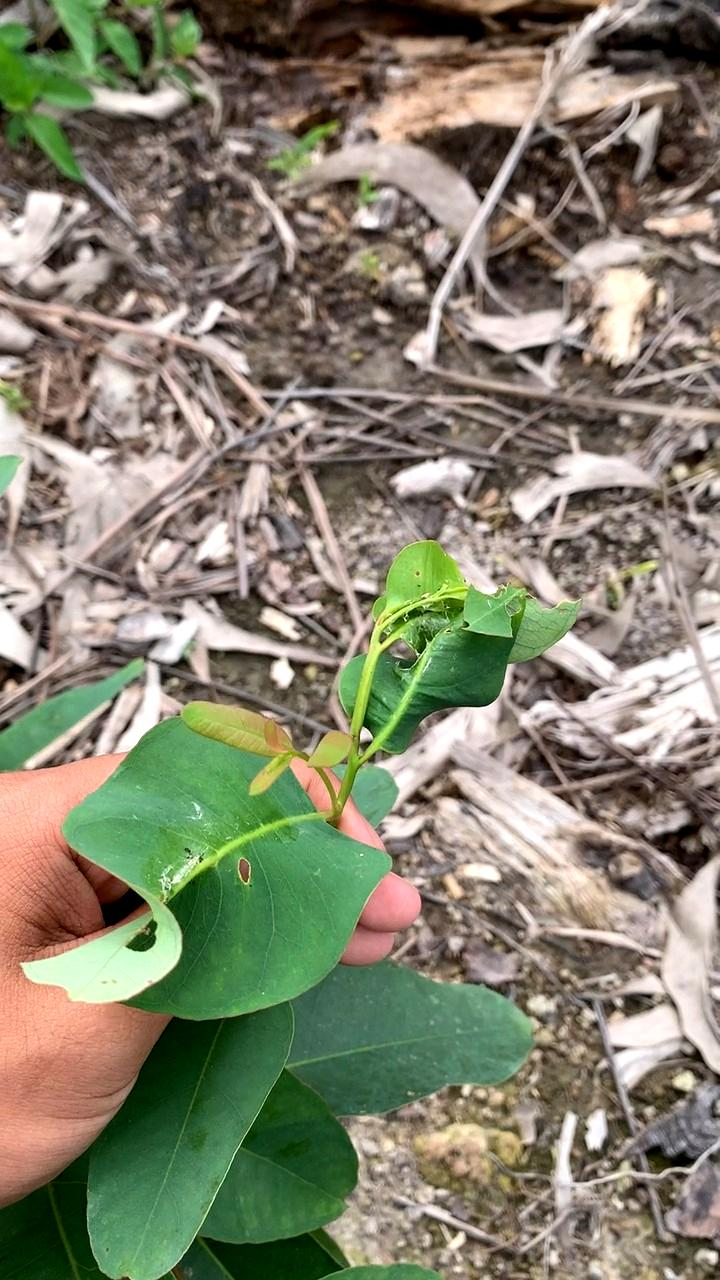Leaf Roller - Leaf: (328, 523, 569, 773)
